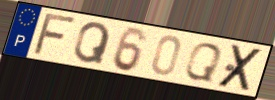0: (149, 34, 183, 78)
6: (110, 25, 150, 73)
F: (30, 12, 81, 57)
Q: (72, 21, 113, 67), (182, 41, 225, 84)
X: (215, 43, 266, 93)
